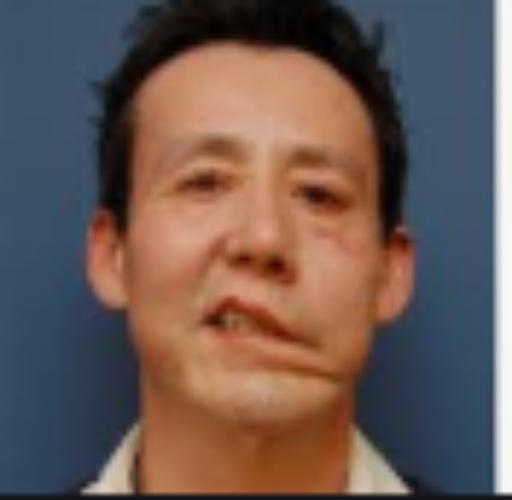left_eye: (287, 174, 355, 218)
left_lip_corner: (285, 324, 332, 361)
right_eye: (168, 167, 245, 204)
right_lip_corner: (195, 302, 226, 336)
